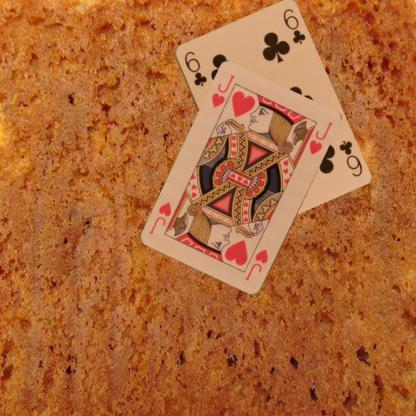6c: (336, 137, 363, 178), (181, 48, 208, 88)
Jh: (209, 72, 236, 110), (242, 247, 270, 282)
